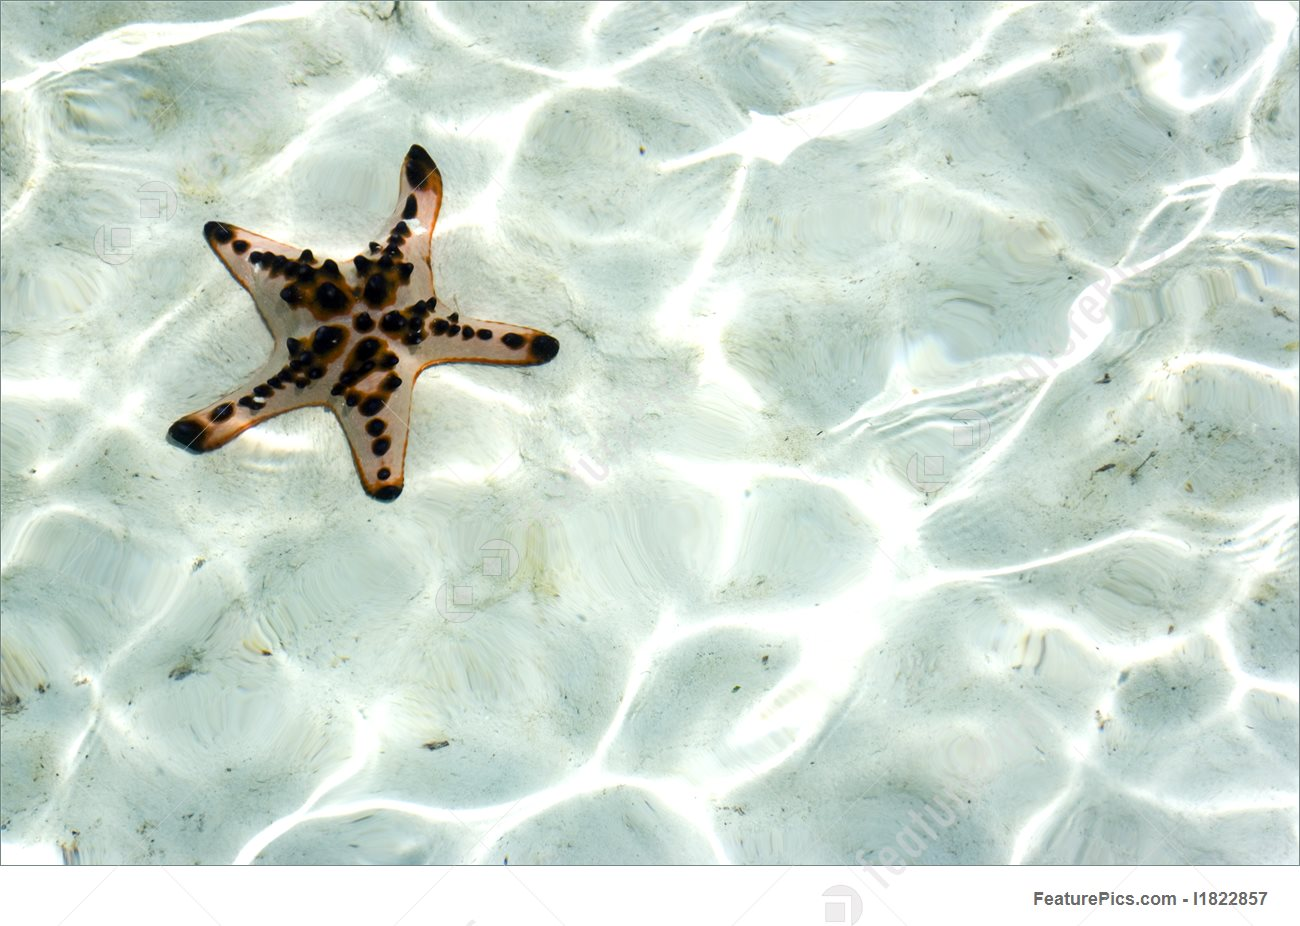starfish: (160, 150, 568, 519)
